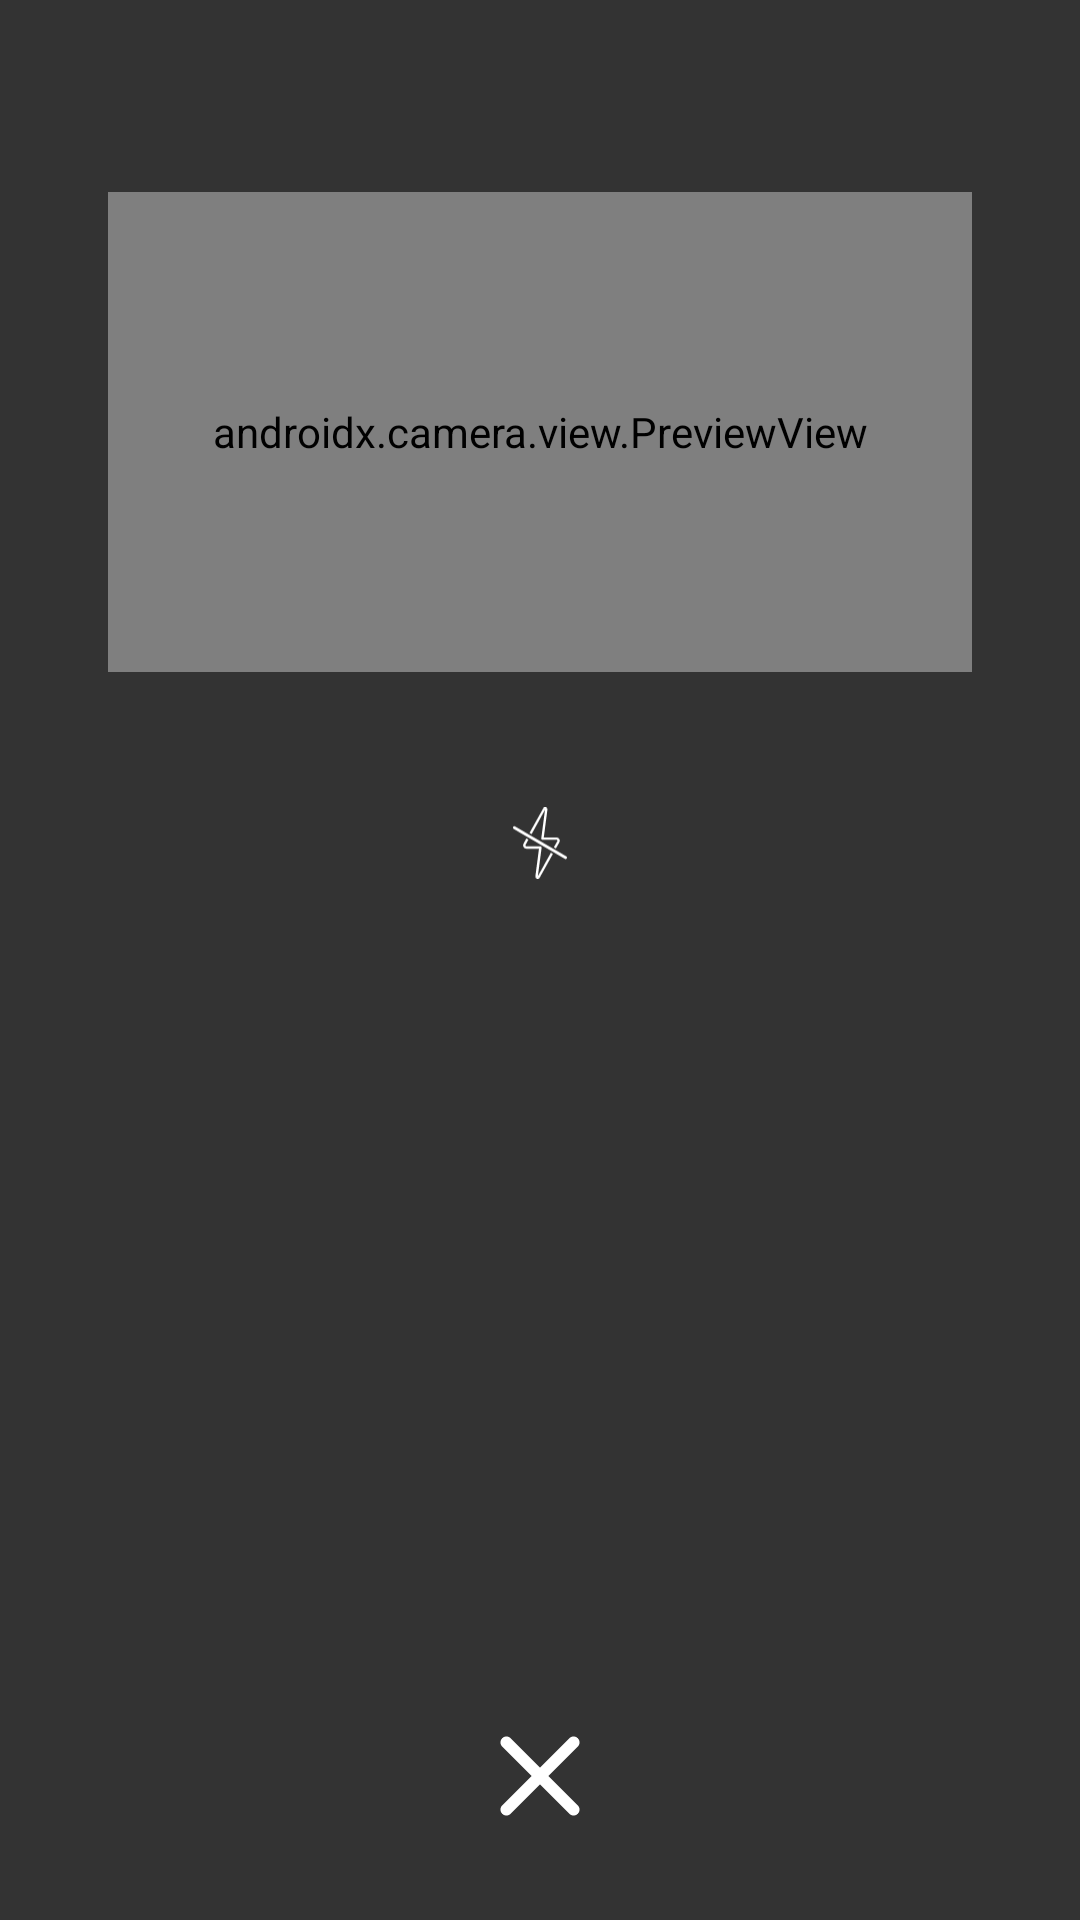

Icon bounding boxes for this 1080px x 1920px phone screenshot, format detection(x1, y1, x2, y2):
close: detection(500, 1736, 580, 1816)
flash off: detection(513, 807, 567, 879)
